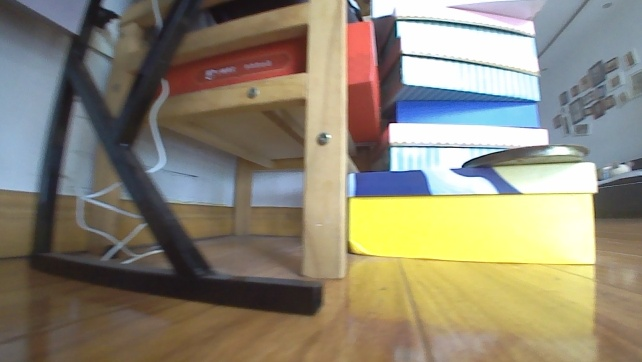sofa1: (592, 155, 641, 220)
wire: (71, 0, 170, 265)
